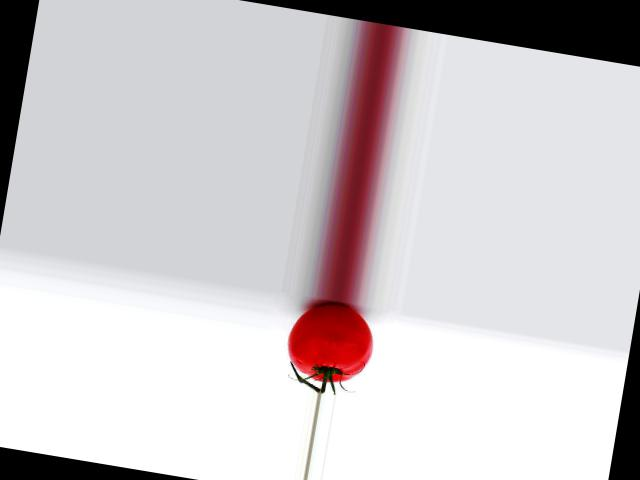tomato: (284, 297, 380, 388)
